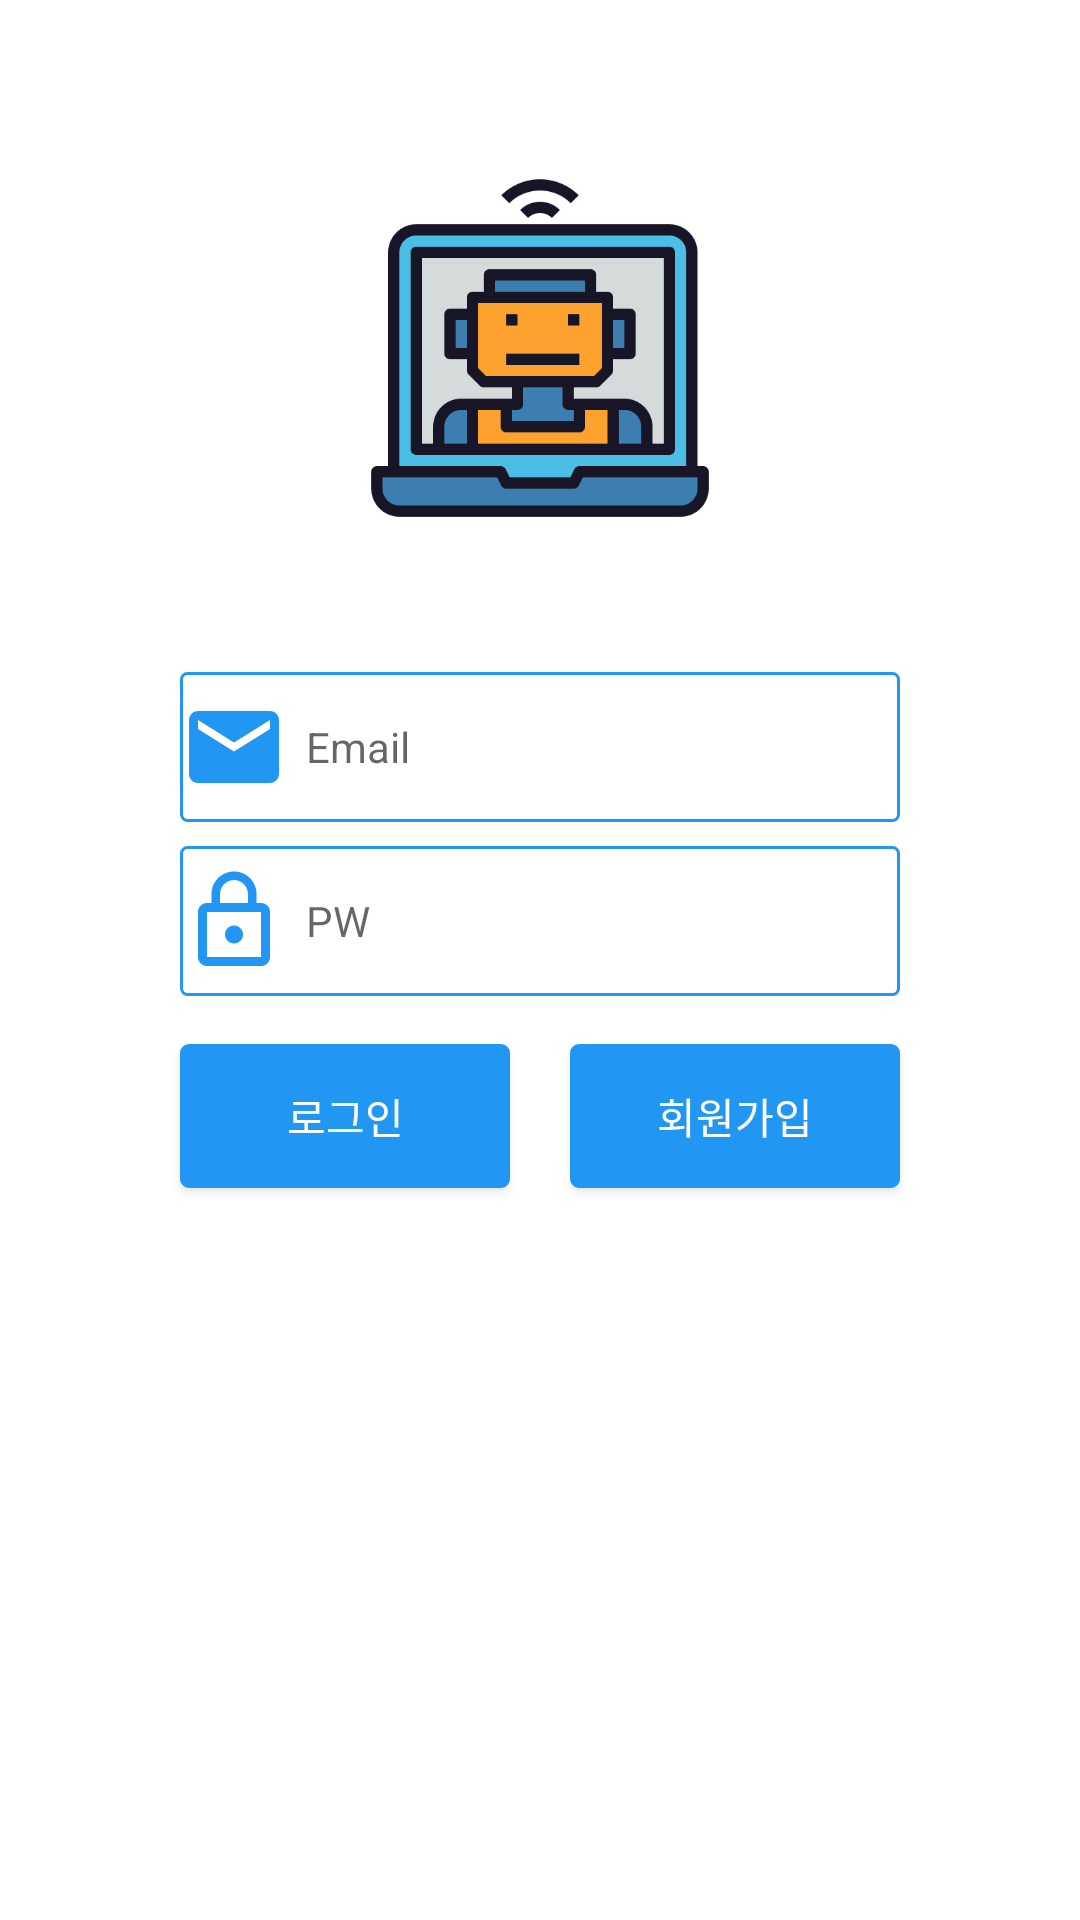

Screen size 1080×1920. Icon name, then its box in pixels as box(x1, y1, x2, y2):
robot: box(371, 179, 709, 517)
